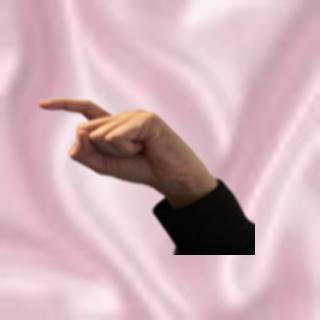WHY: (34, 88, 214, 200)
